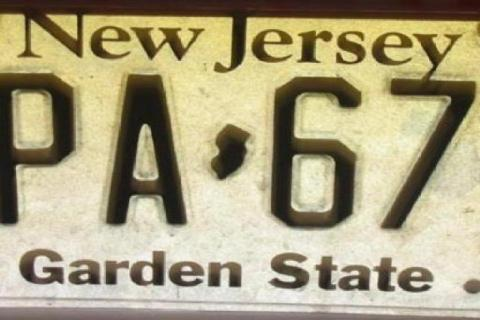LicensePlate: (0, 64, 478, 243)
